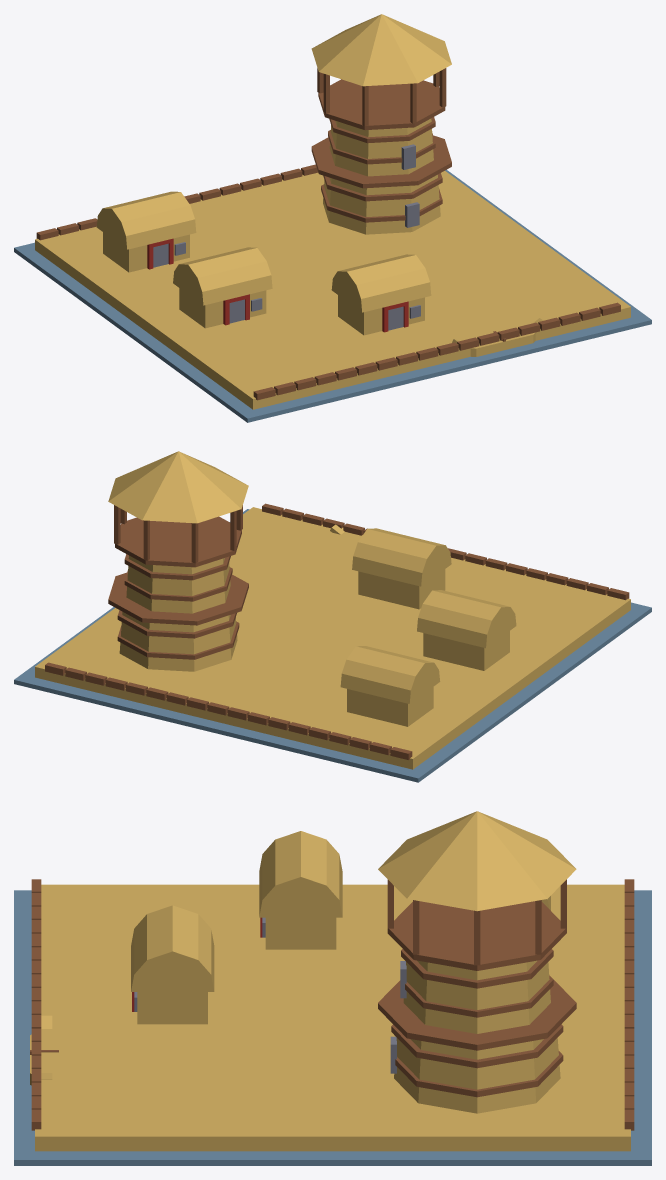
File: house-2x2-2f-totora-a.glb
3 views of the same model, one above another, from view 1: azimuth 30°, elevation 25°; view 2: azimuth 150°, elevation 25°; view 3: azimuth 270°, elevation 25° (orthographic). The views are drawn at different scales.
Parts seen in each view (by area): view 1: house-2x2-2f-totora-a; view 2: house-2x2-2f-totora-a; view 3: house-2x2-2f-totora-a.
Part boxes in pixels (box(x1,y1,x2,y2)): house-2x2-2f-totora-a: box(14, 14, 651, 422); house-2x2-2f-totora-a: box(14, 451, 651, 782); house-2x2-2f-totora-a: box(14, 811, 651, 1165).
Size of the model in its own units: 1.99 by 0.99 by 1.99.
Materials: 1 (1 with a texture image).
